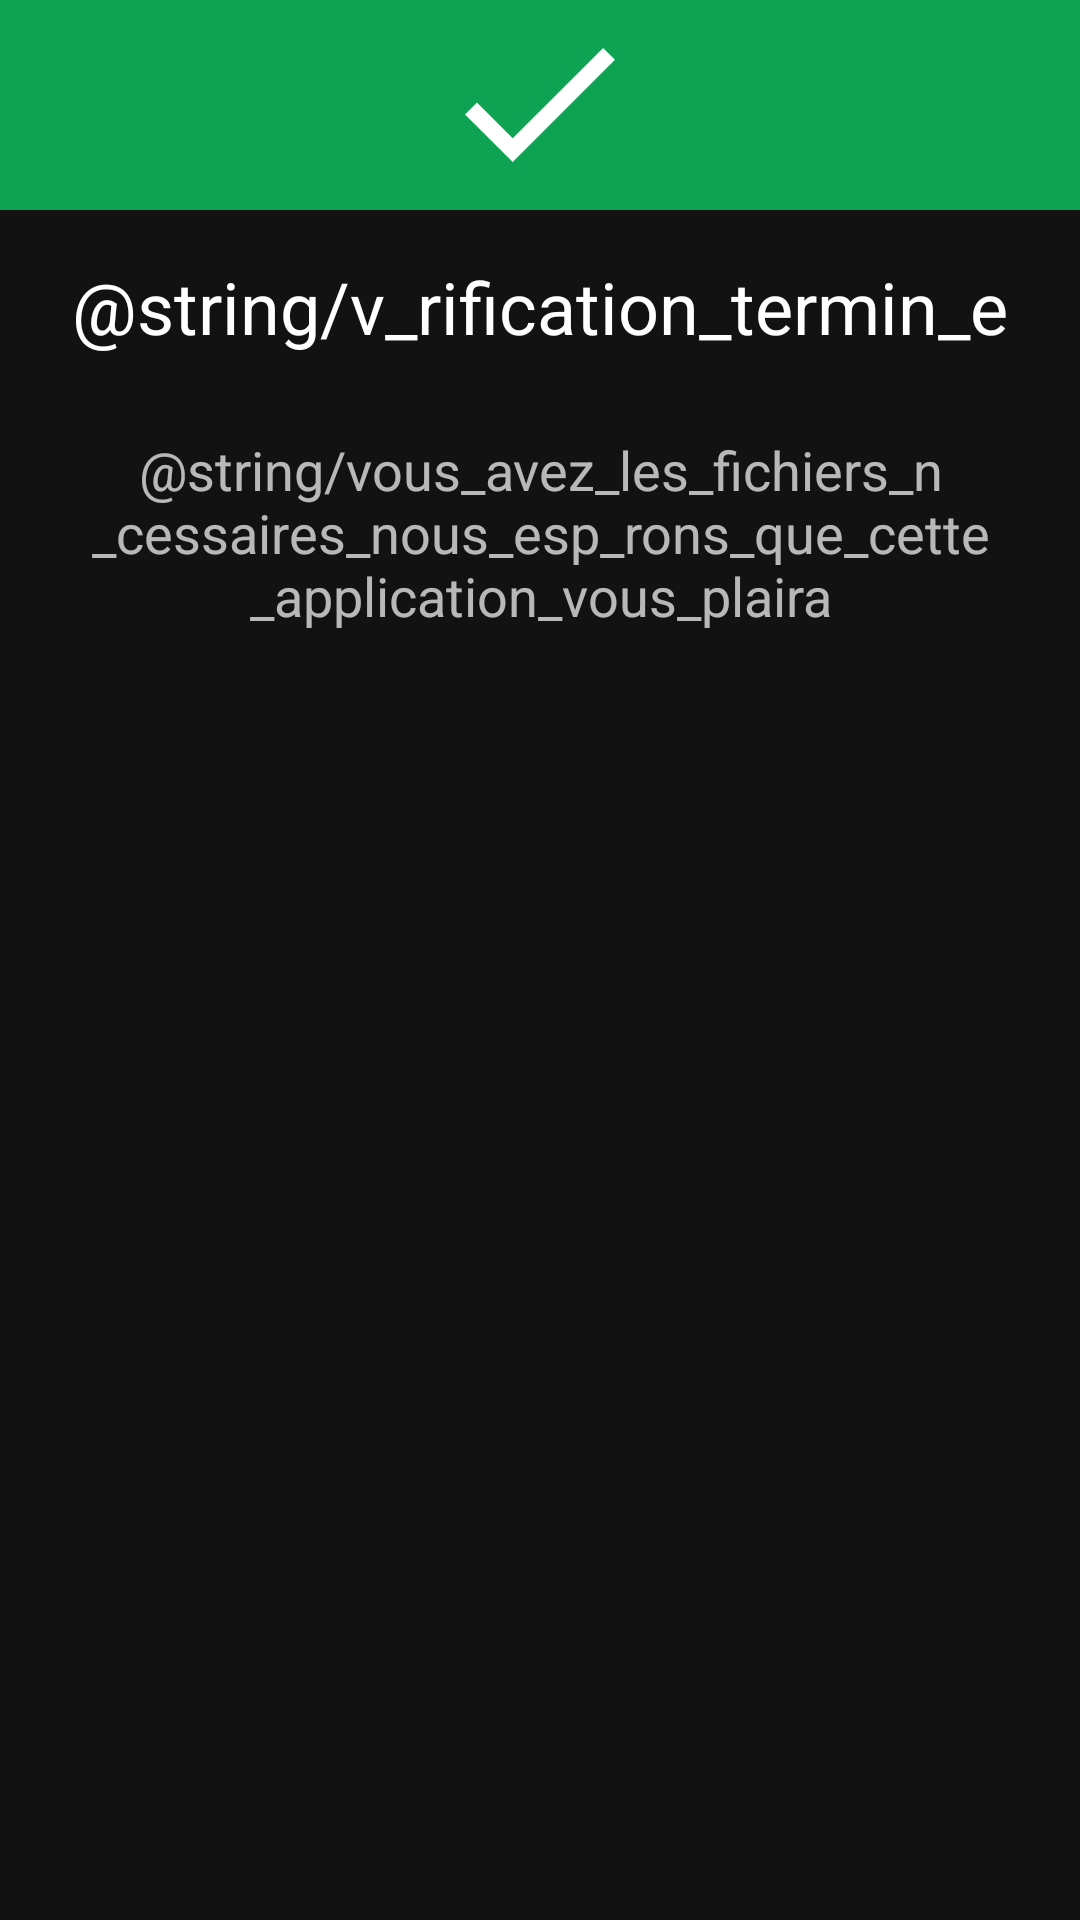

Icons on this 1080×1920 Android screen, each with its box as (left=x1, top=y1, right=x2, bottom=y2):
check symbol: (left=465, top=48, right=615, bottom=162)
